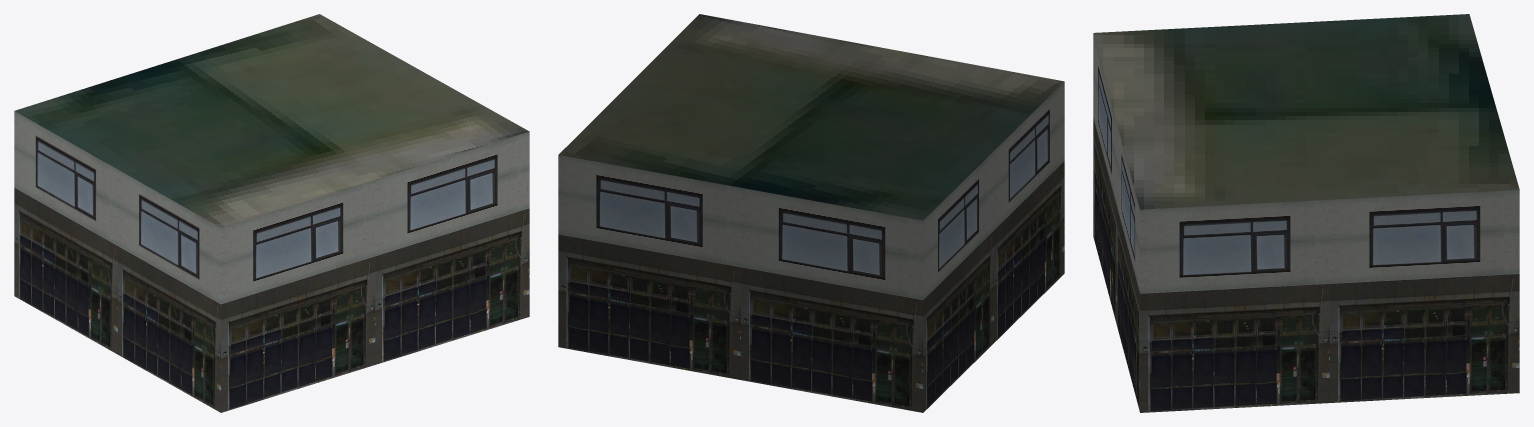
The model's file is T_1SWUN4NX23.dae.
3 renders of one model, left to right at view 1: azimuth 30°, elevation 25°; view 2: azimuth 150°, elevation 25°; view 3: azimuth 270°, elevation 25°, orthographic. The views are drawn at different scales.
Parts seen in each view (by area): view 1: SketchUp (×5); view 2: SketchUp (×5); view 3: SketchUp (×5).
Boxes of the visible parts, x1=… form: SketchUp (×5): x1=14, y1=14, x2=529, y2=412; SketchUp (×5): x1=558, y1=14, x2=1064, y2=412; SketchUp (×5): x1=1093, y1=14, x2=1519, y2=412.
Size of the model in its own units: 11.62 by 10.71 by 5.63.
Materials: 3 (3 with a texture image).
